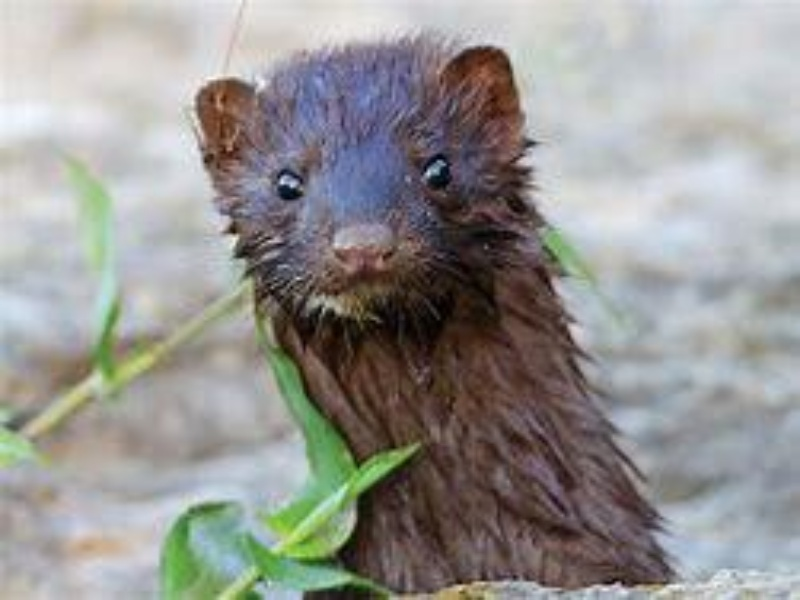minkish: (187, 28, 683, 592)
